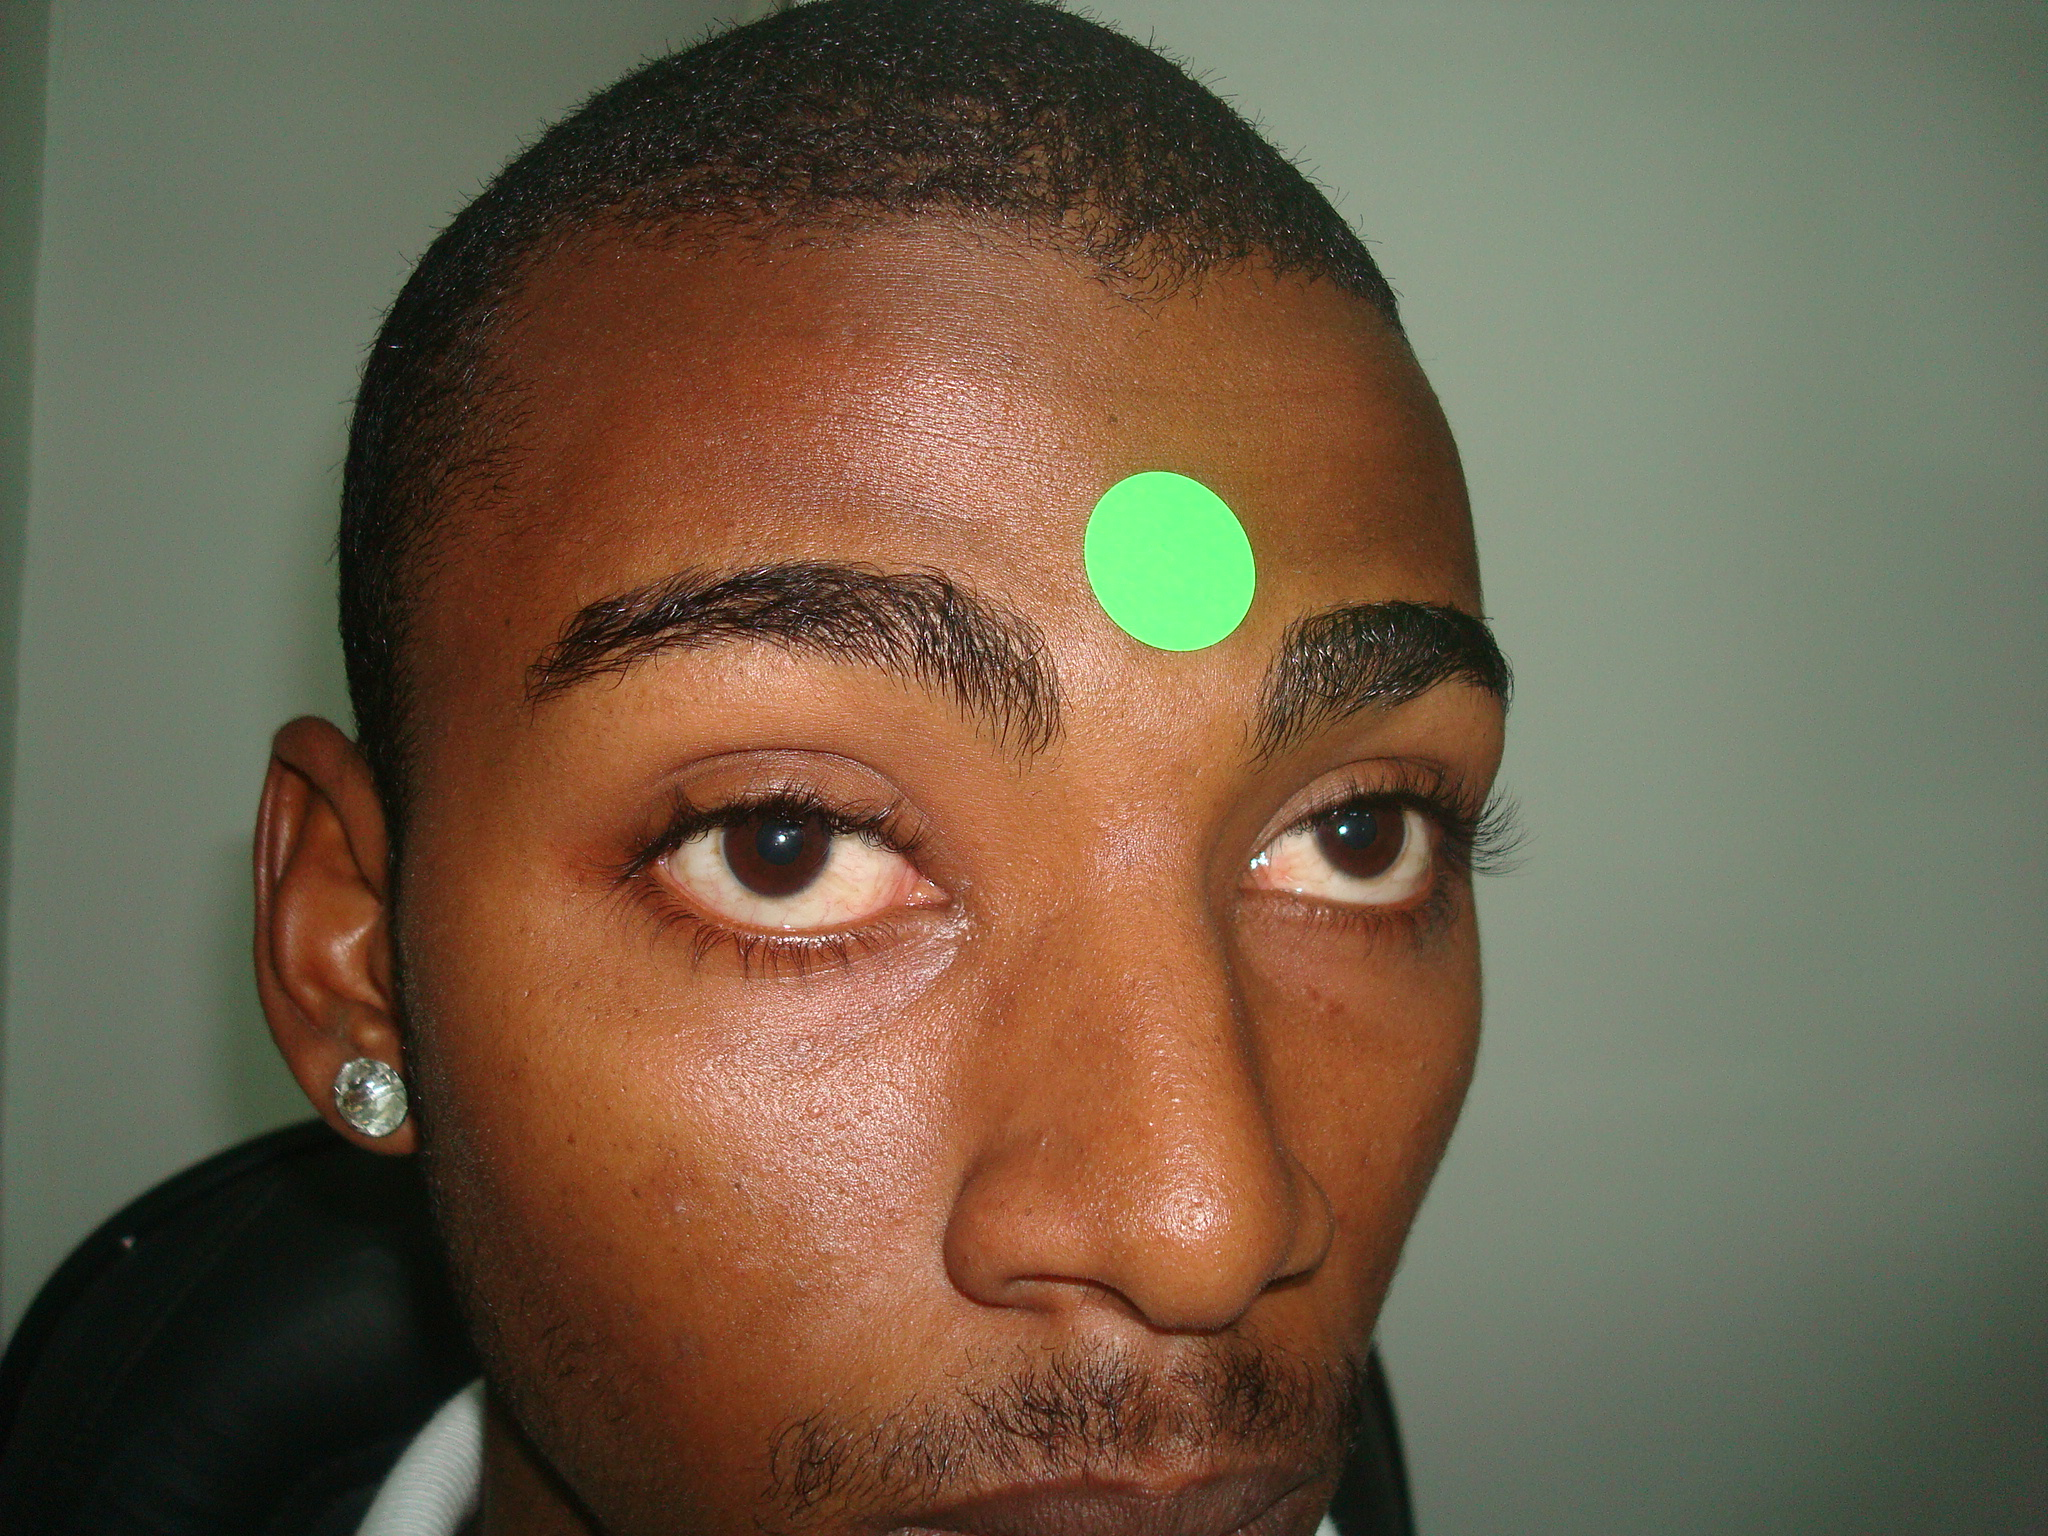flash: (774, 831, 790, 847), (1335, 823, 1350, 837)
limbo: (722, 783, 834, 894), (1316, 786, 1405, 871)
